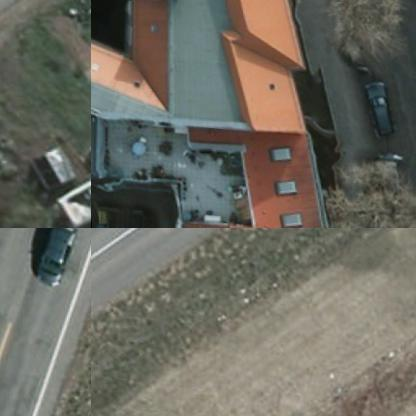car: (23, 228, 76, 293), (352, 80, 394, 137)
